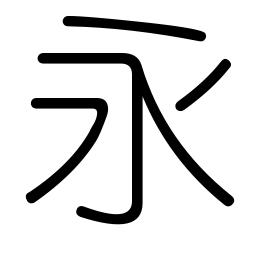D: (61, 13, 207, 42)
HSZ: (106, 50, 143, 89)
Hs: (36, 50, 96, 67)
Ne: (207, 177, 236, 210)
PNc: (146, 97, 185, 123)
PZe: (24, 178, 49, 206)
Ps: (212, 55, 234, 83)
SG: (74, 198, 147, 227)
Sm: (127, 125, 147, 173)
TPZ: (81, 96, 111, 145)
Ts: (28, 94, 57, 111)
